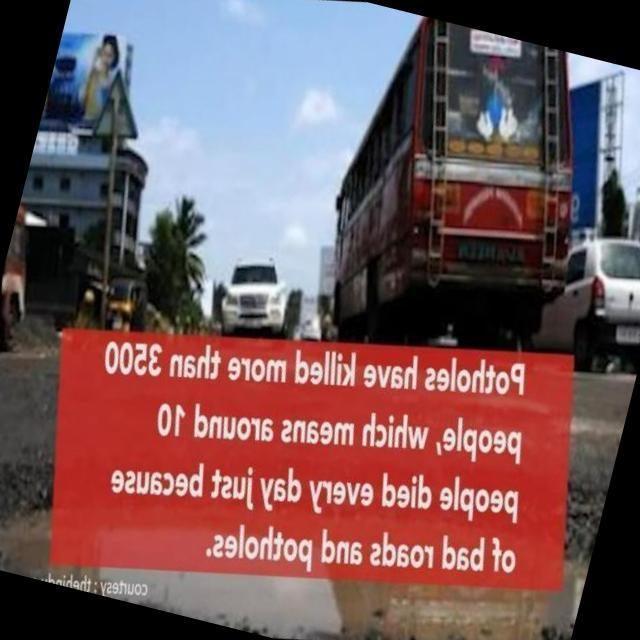pothole: (0, 464, 591, 640)
